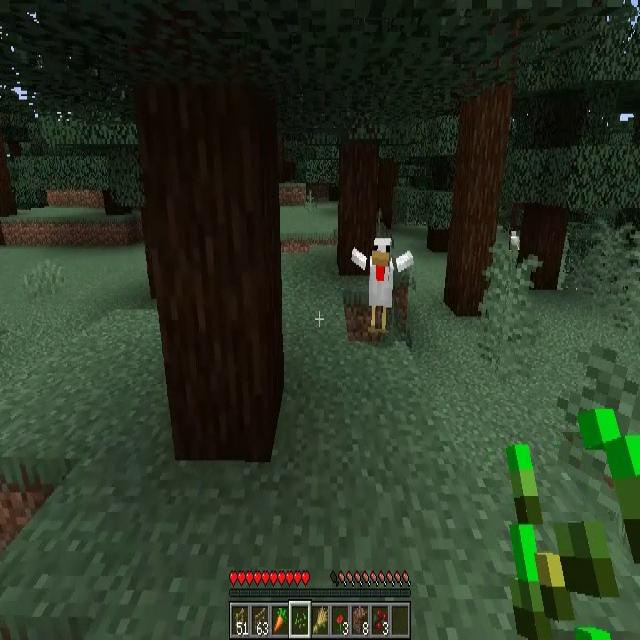duck: (351, 236, 414, 334), (509, 230, 520, 250)
